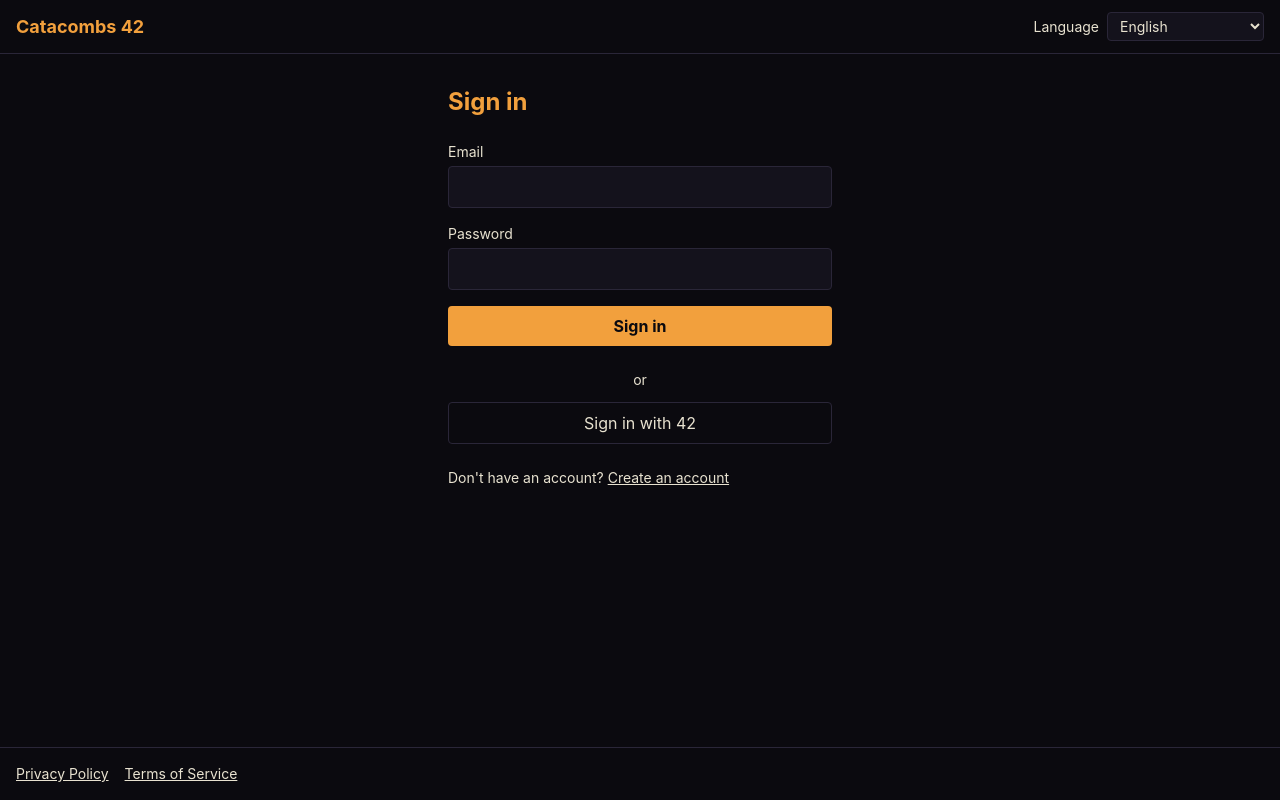
Login: envio › 401: mostra o erro geral e reabilita o botão
Expected: the heading "Sign in" is shown, x1=448 y1=87 x2=528 y2=116
In the field labelled "Email": (640, 187) x1=448 y1=166 x2=832 y2=208, type "augusto@example.com"
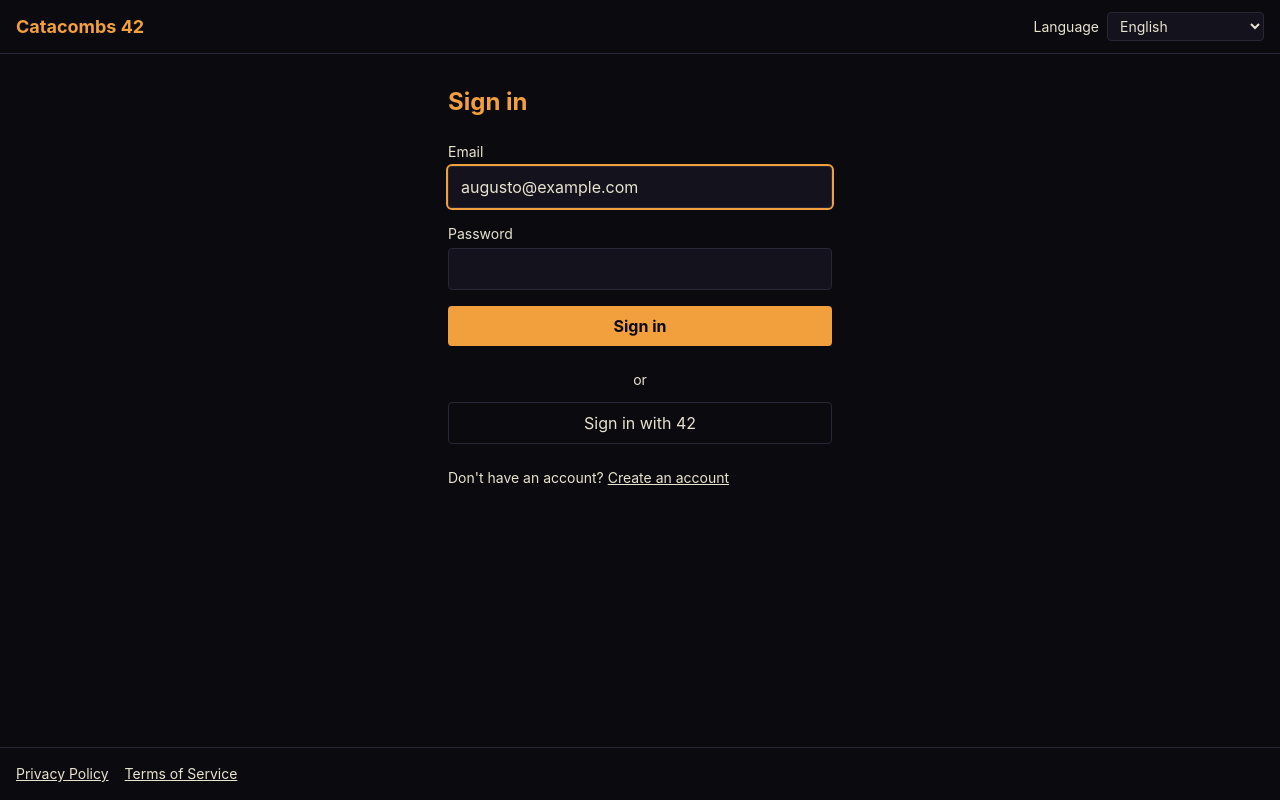
In the password field labelled "Password": (640, 269) x1=448 y1=248 x2=832 y2=290, type "errada"
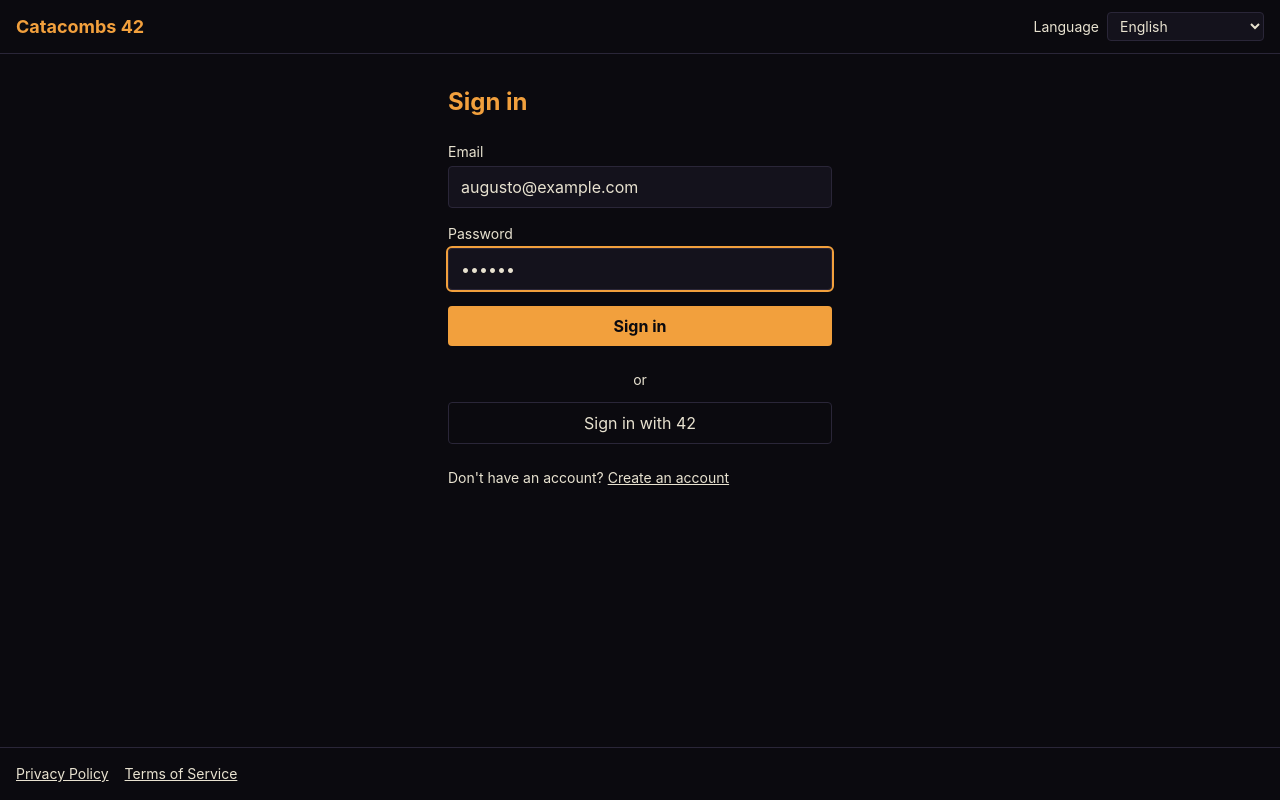
Click the button "Sign in": (640, 326) x1=448 y1=306 x2=832 y2=346
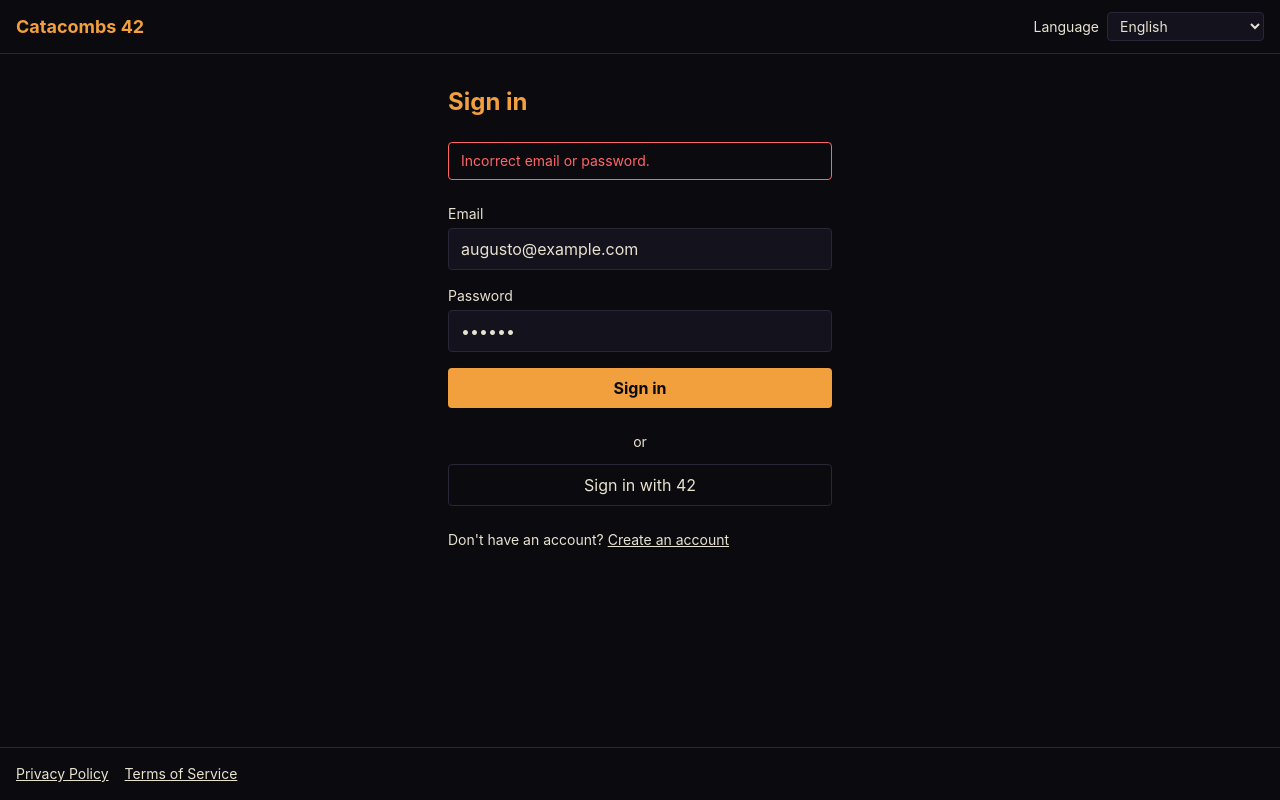
Expected: the button "Sign in" is enabled, x1=448 y1=368 x2=832 y2=408
Now the message reads "Incorrect email or password.", box x1=461 y1=152 x2=650 y2=169
